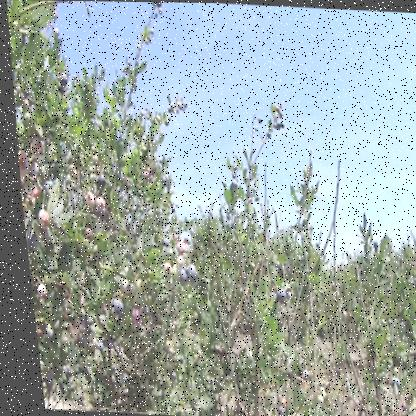intermediate: (15, 151, 29, 177), (34, 210, 49, 232), (18, 195, 23, 222)
mature: (104, 299, 120, 318), (179, 263, 194, 280), (175, 271, 183, 290), (57, 73, 67, 86)
young: (80, 190, 104, 217), (114, 277, 140, 295), (158, 261, 176, 285), (30, 282, 43, 301)
